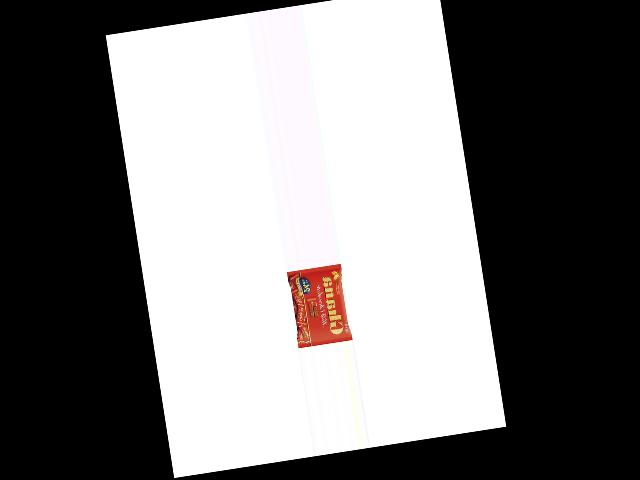chocolate: (284, 262, 351, 347)
